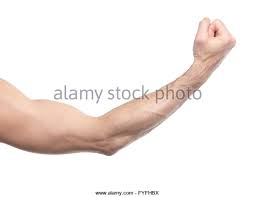fist: (189, 16, 240, 73)
